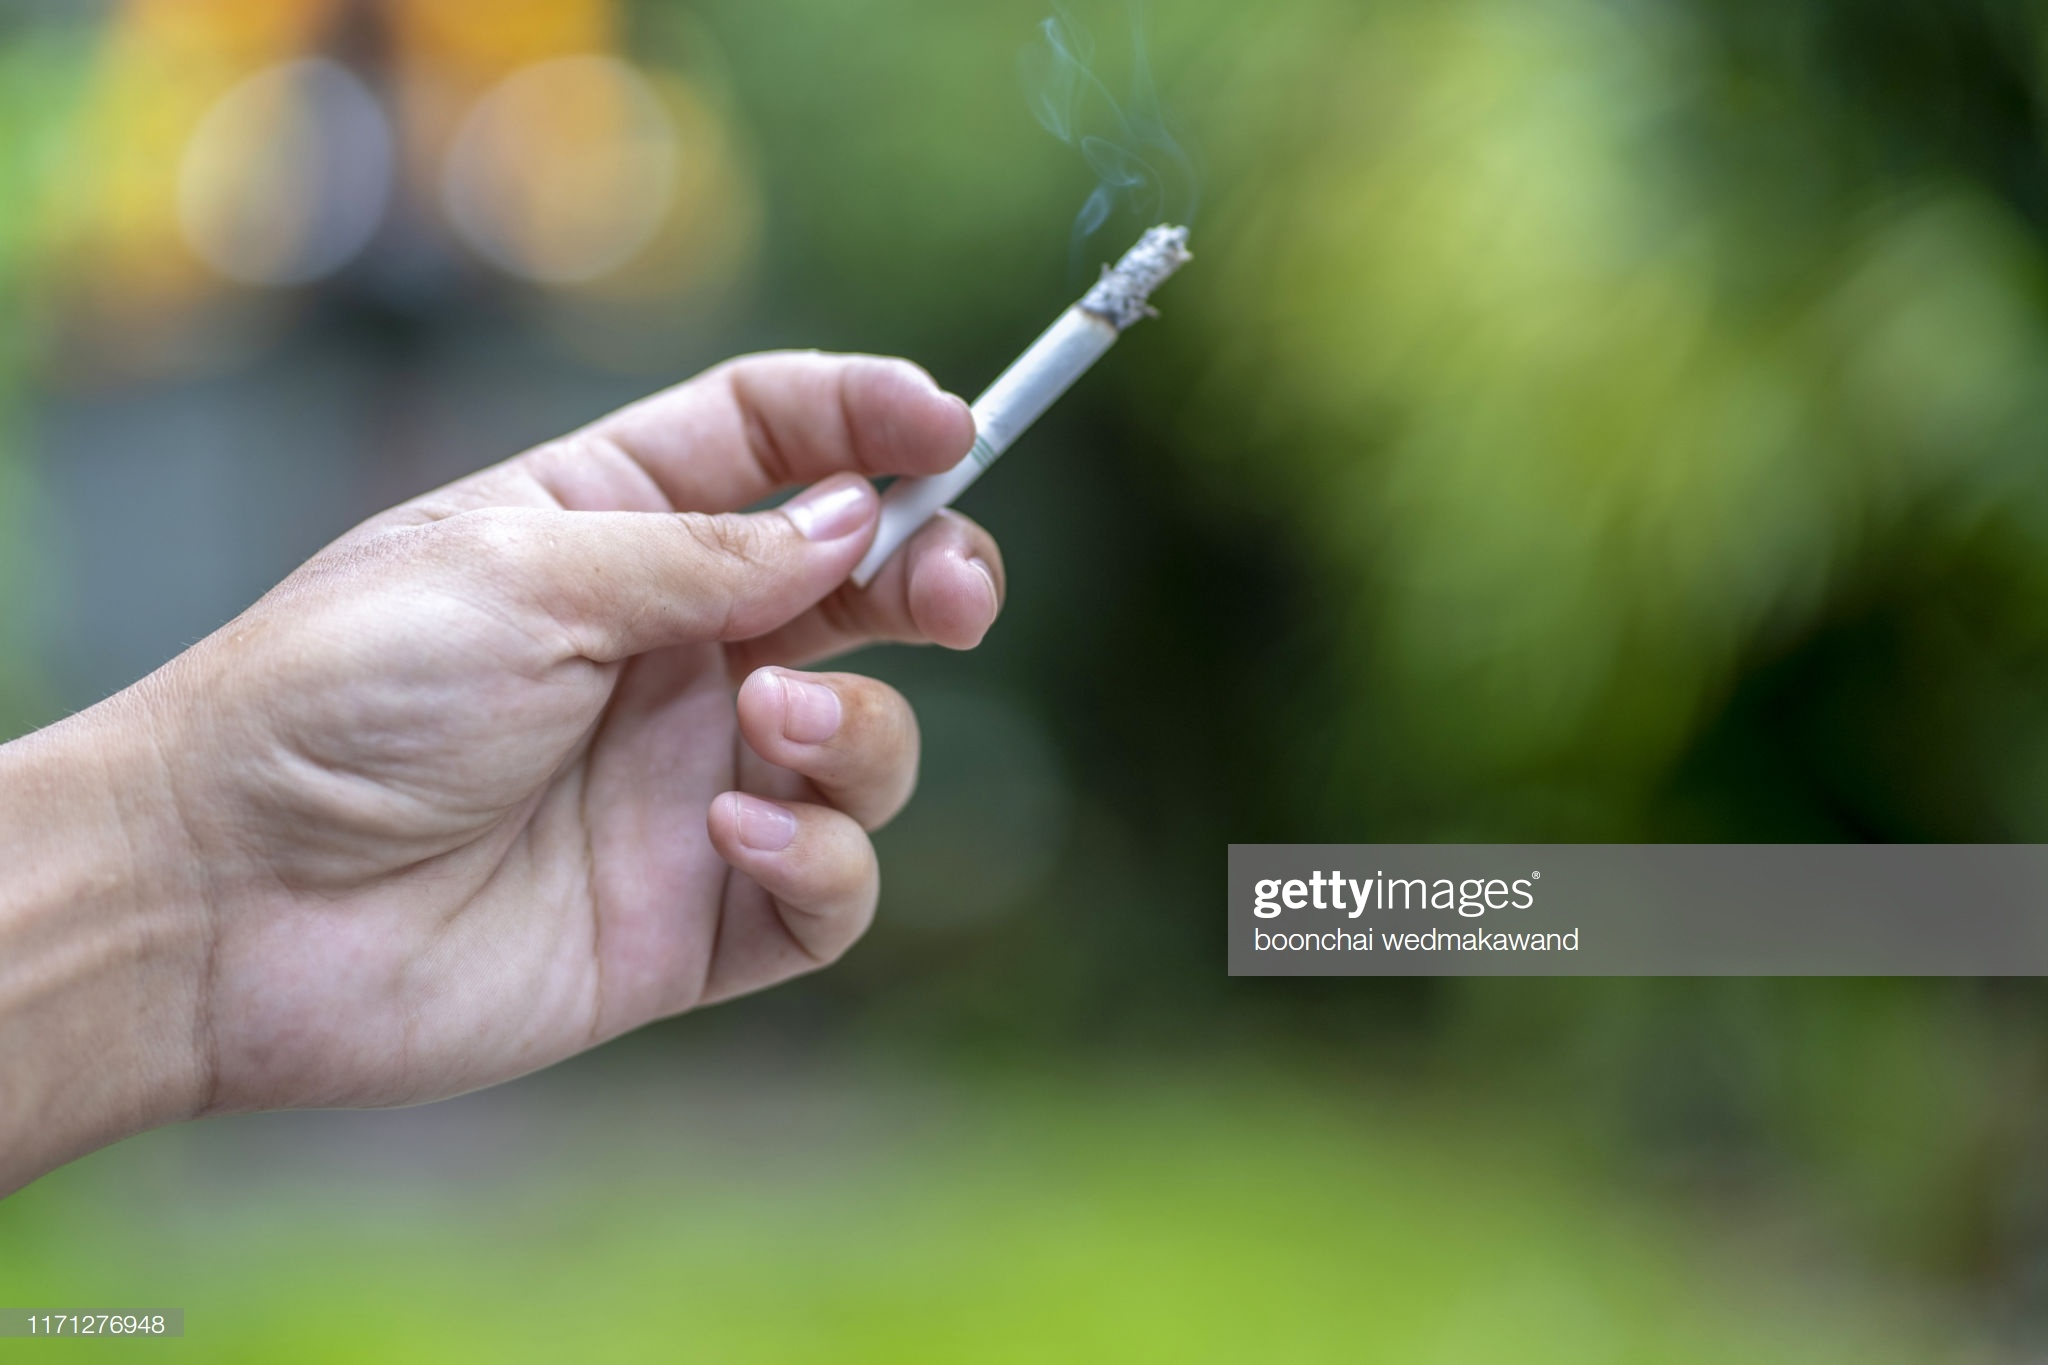sigaretta: (828, 198, 1192, 573)
